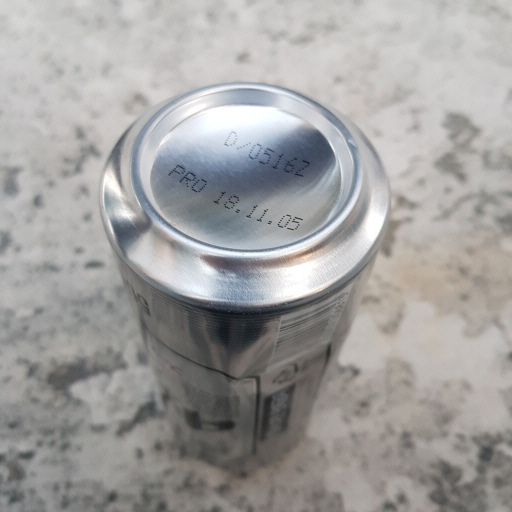Metal_0: (97, 83, 391, 469)
